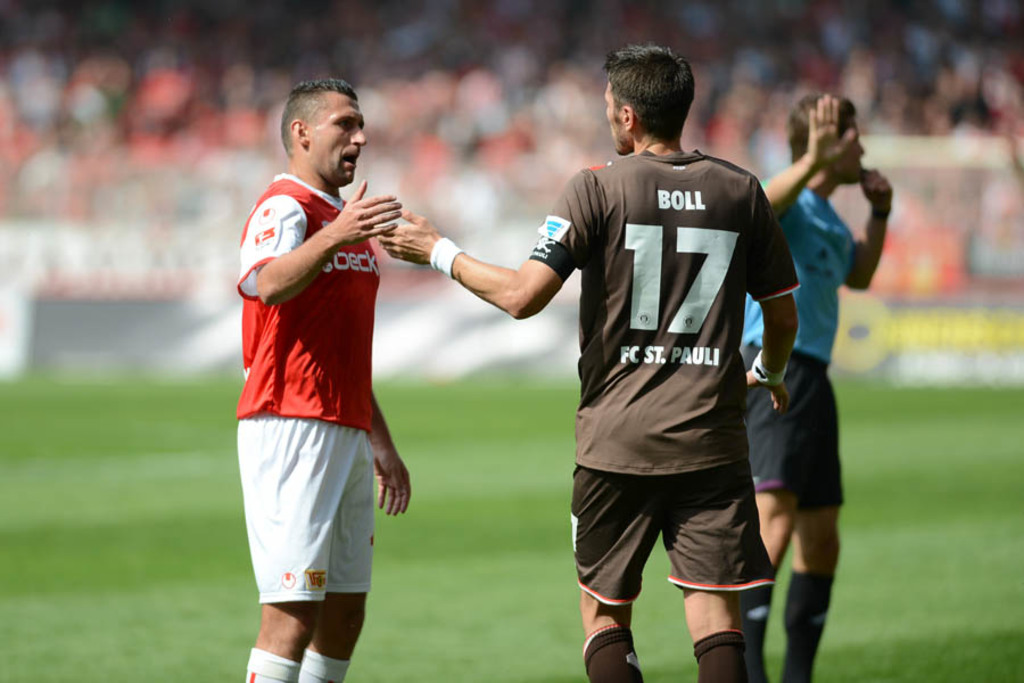Human_hand: (333, 181, 403, 243), (379, 205, 442, 266), (808, 96, 857, 162), (863, 169, 892, 202)
